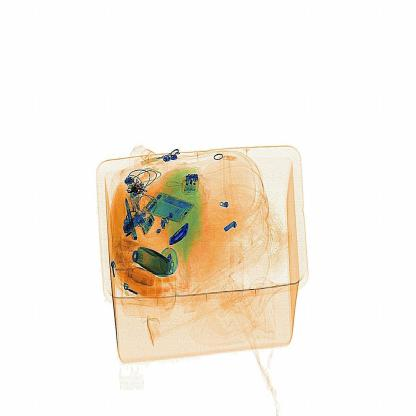knife: (166, 218, 198, 250)
